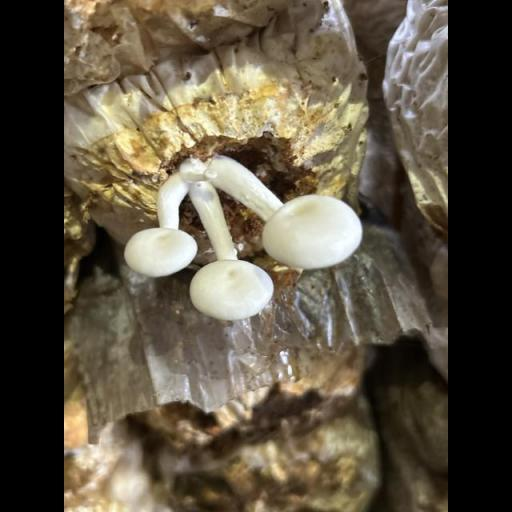White Oyster Mushroom: (126, 156, 356, 319)
